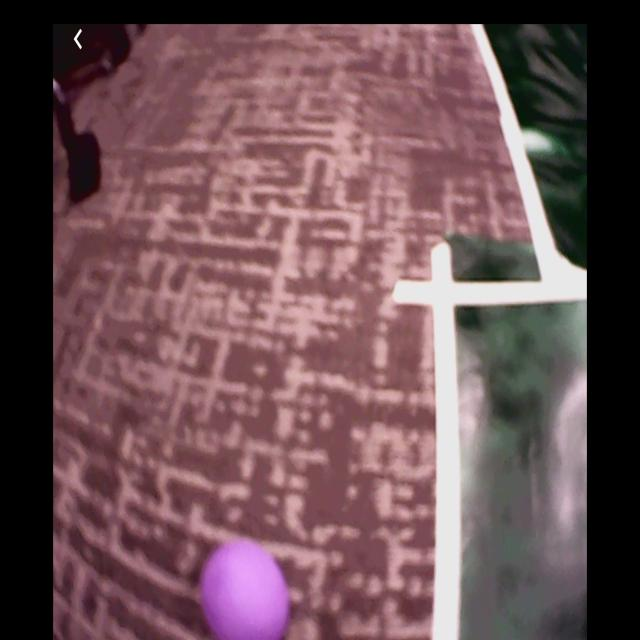ball: (199, 536, 291, 638)
